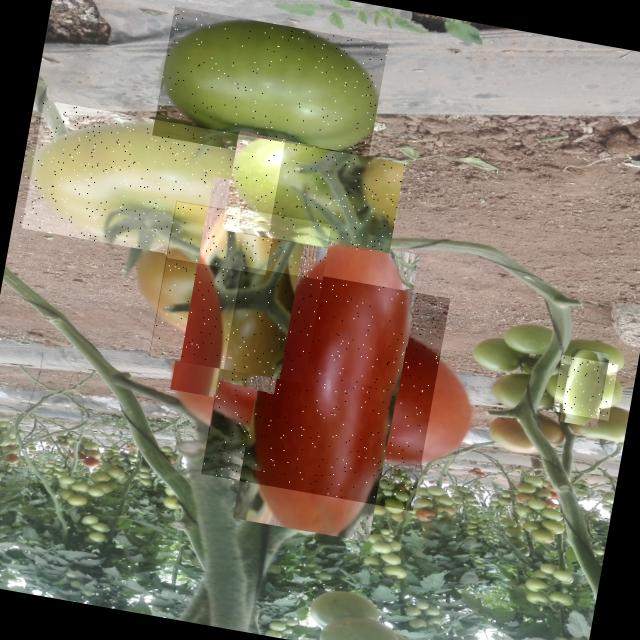Ripe Tomato: (200, 261, 450, 511)
Unripe Tomato: (18, 99, 285, 270), (152, 6, 388, 173), (146, 198, 331, 382), (222, 134, 406, 255), (552, 354, 618, 420)
